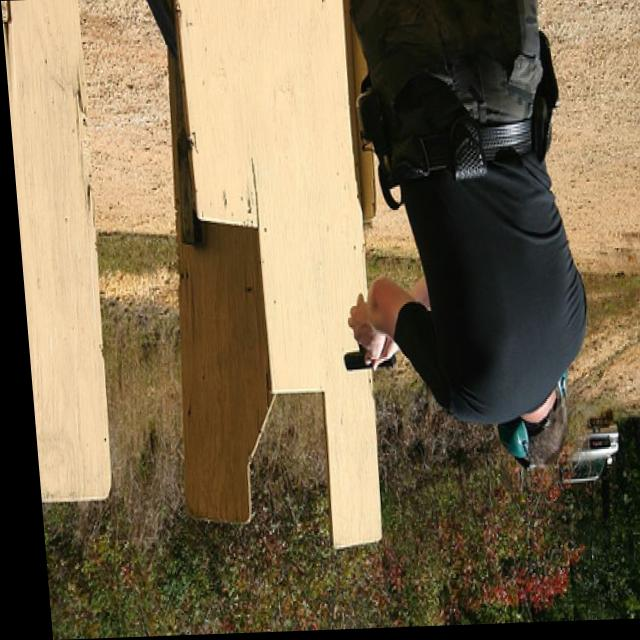handgun: (333, 335, 390, 377)
